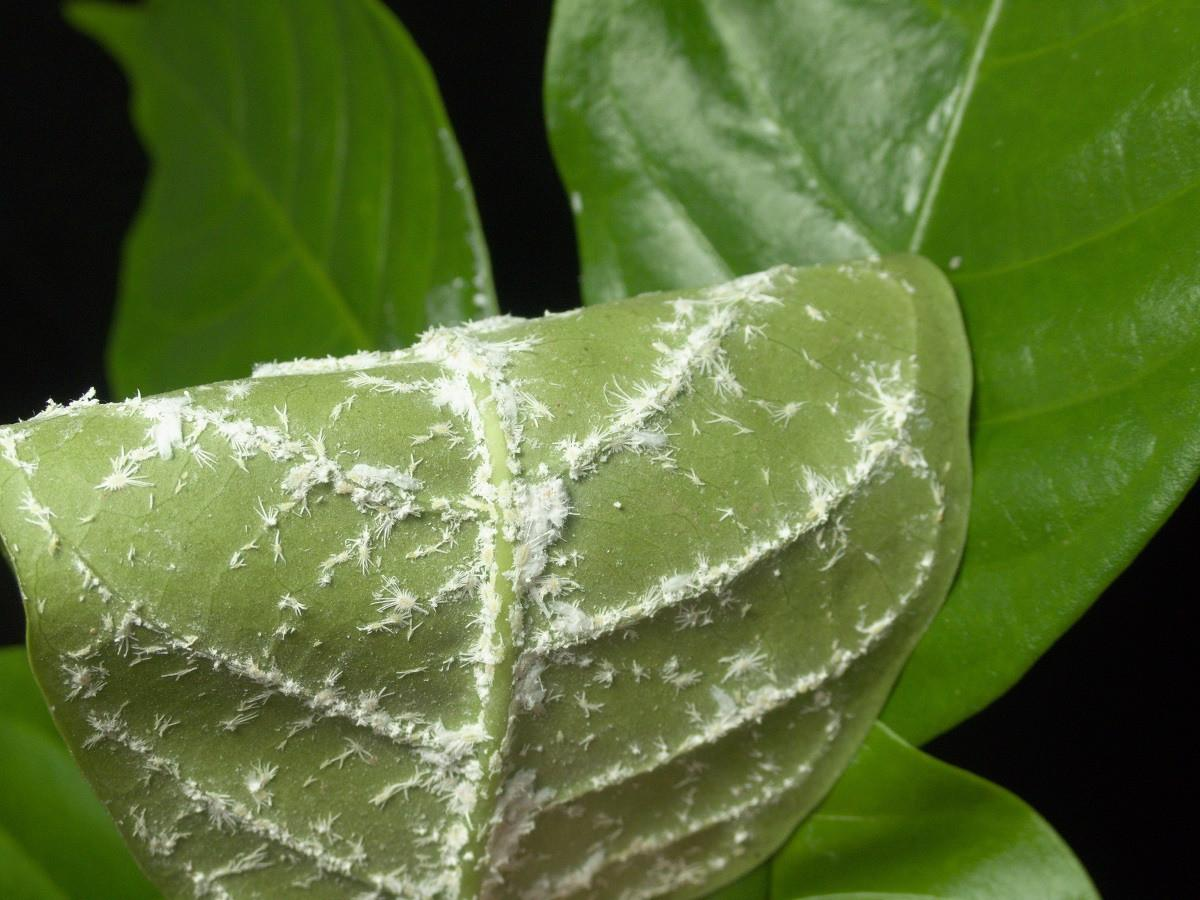pseudococcidae: (7, 250, 969, 899)
